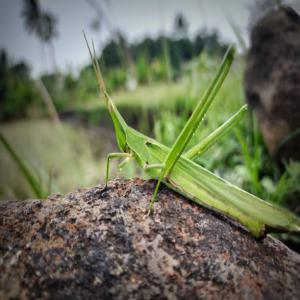locust: (82, 38, 300, 262)
